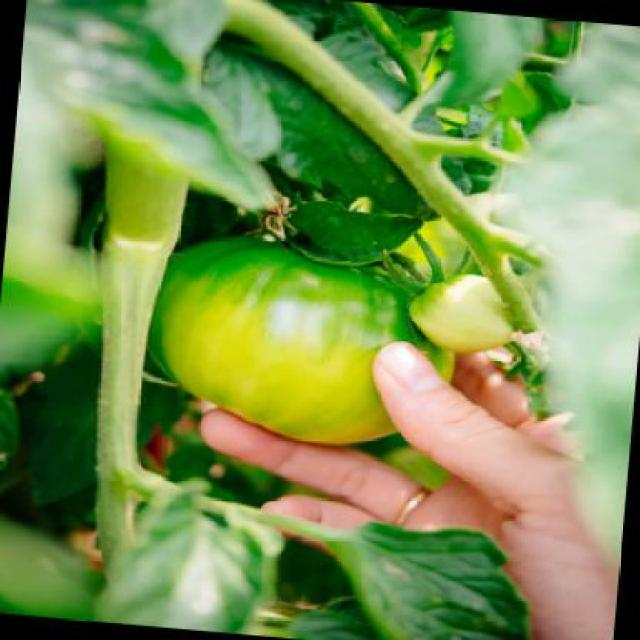unripe tomato: (134, 220, 471, 458), (402, 264, 527, 358)
